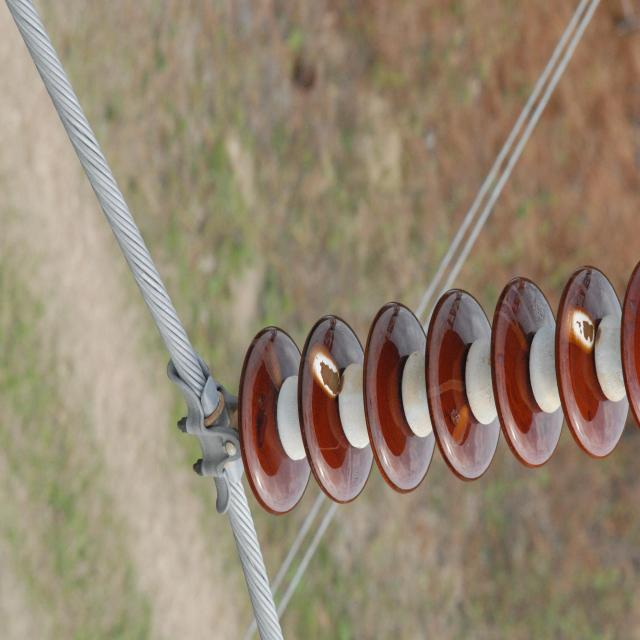insulator: (236, 259, 640, 519)
